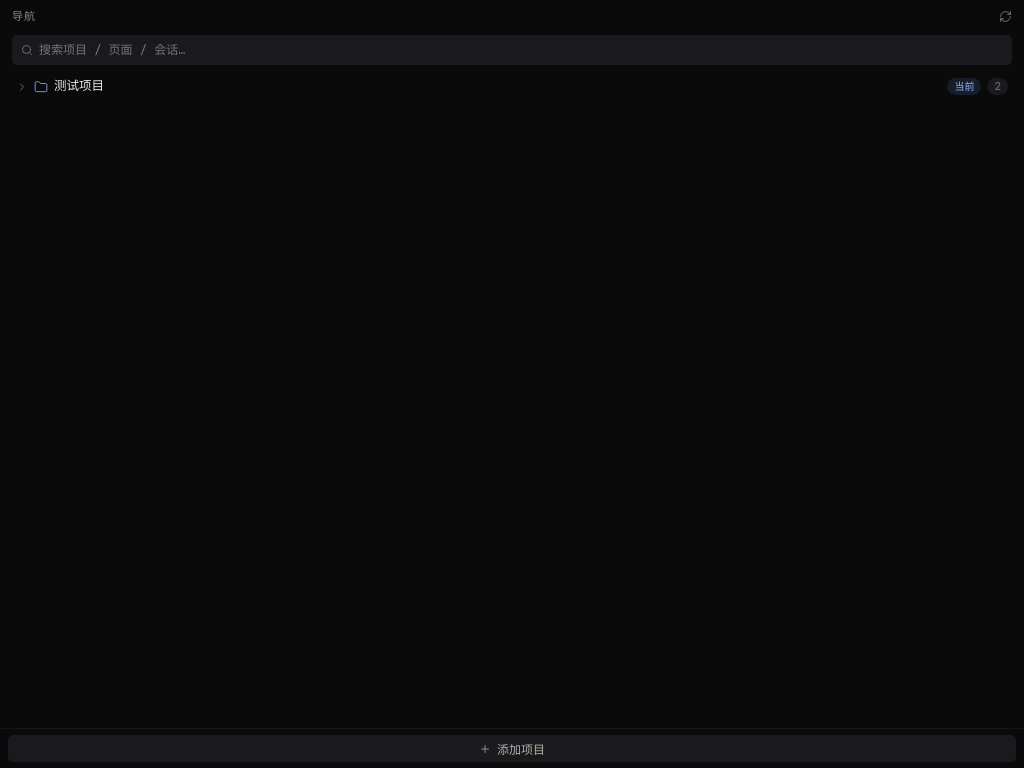
三级层级渲染（项目→页面→会话） › 活跃会话经 panelId→pageId 归属到对应页面下（page2 会话不出现在 page1 区域之外）
Click the element with test id "nav-row-project": (79,86) x1=8 y1=72 x2=1016 y2=100
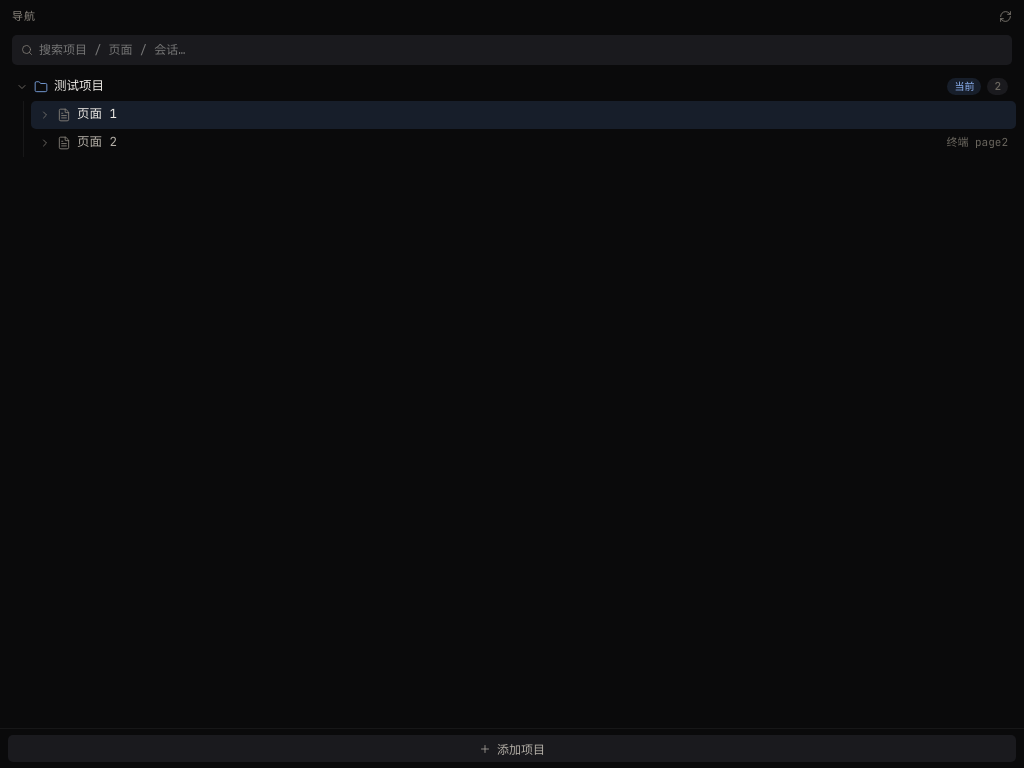
Click the element with test id "nav-row-page": (524,114) x1=31 y1=100 x2=1016 y2=128
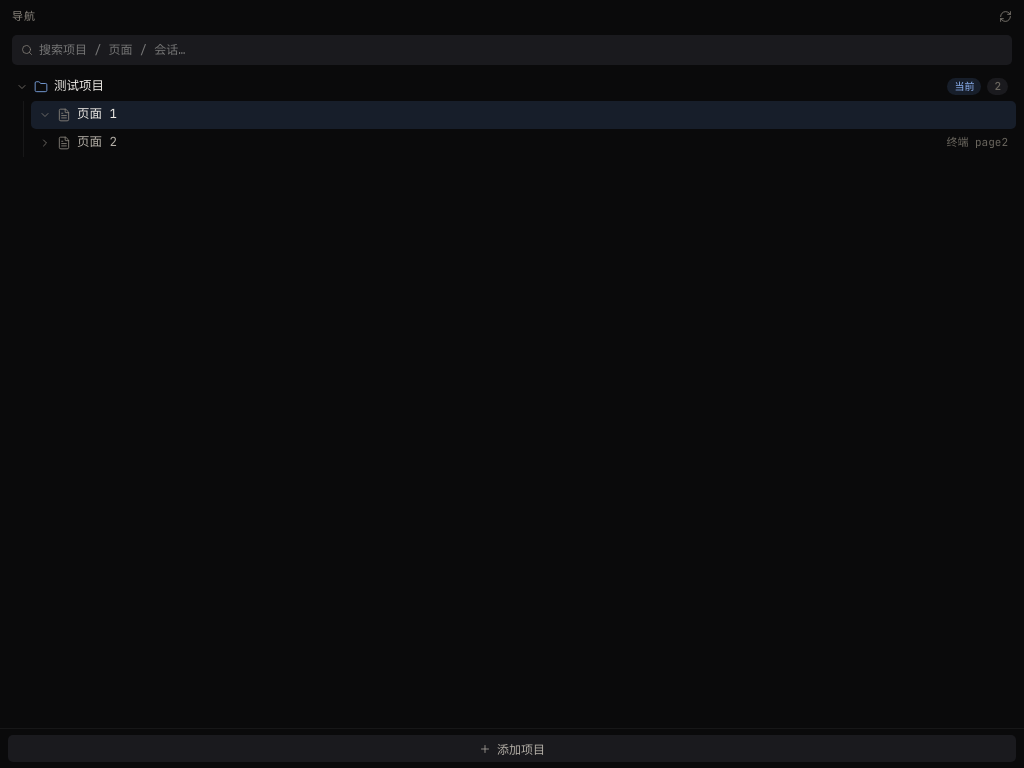
Check: the element with test id "nav-row-page" is shown
Click the element with test id "nav-row-page": (97,142) x1=31 y1=128 x2=1016 y2=156
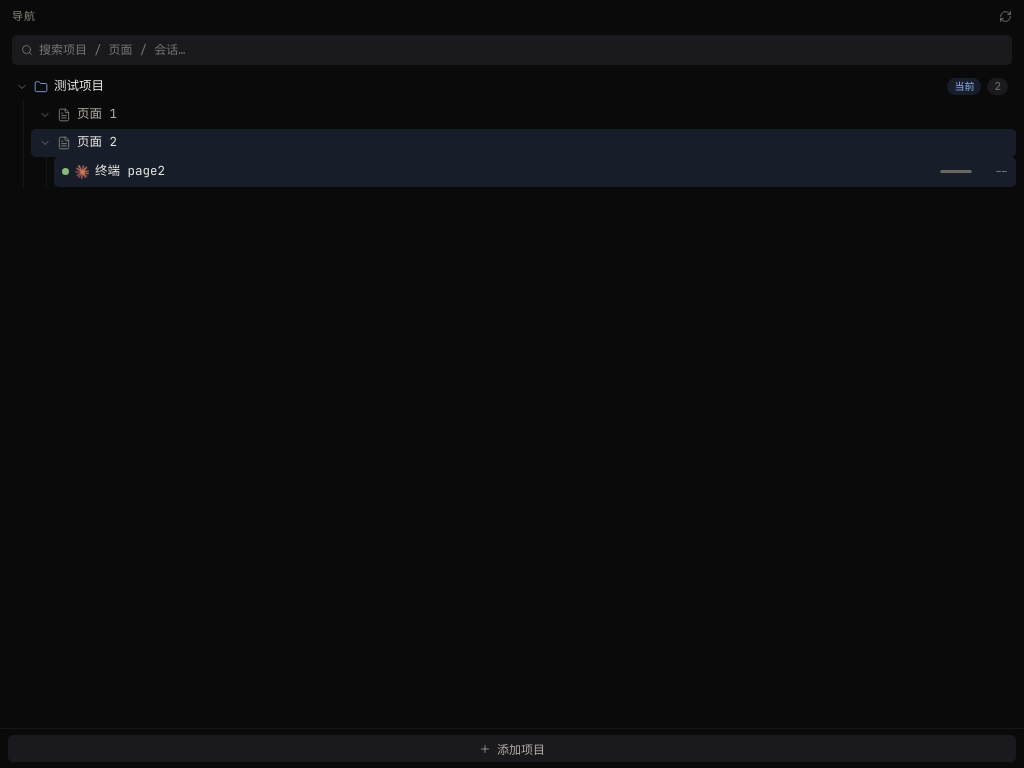
Check: the element with test id "nav-row-session" shows "终端 page2", box x1=95 y1=162 x2=165 y2=179
